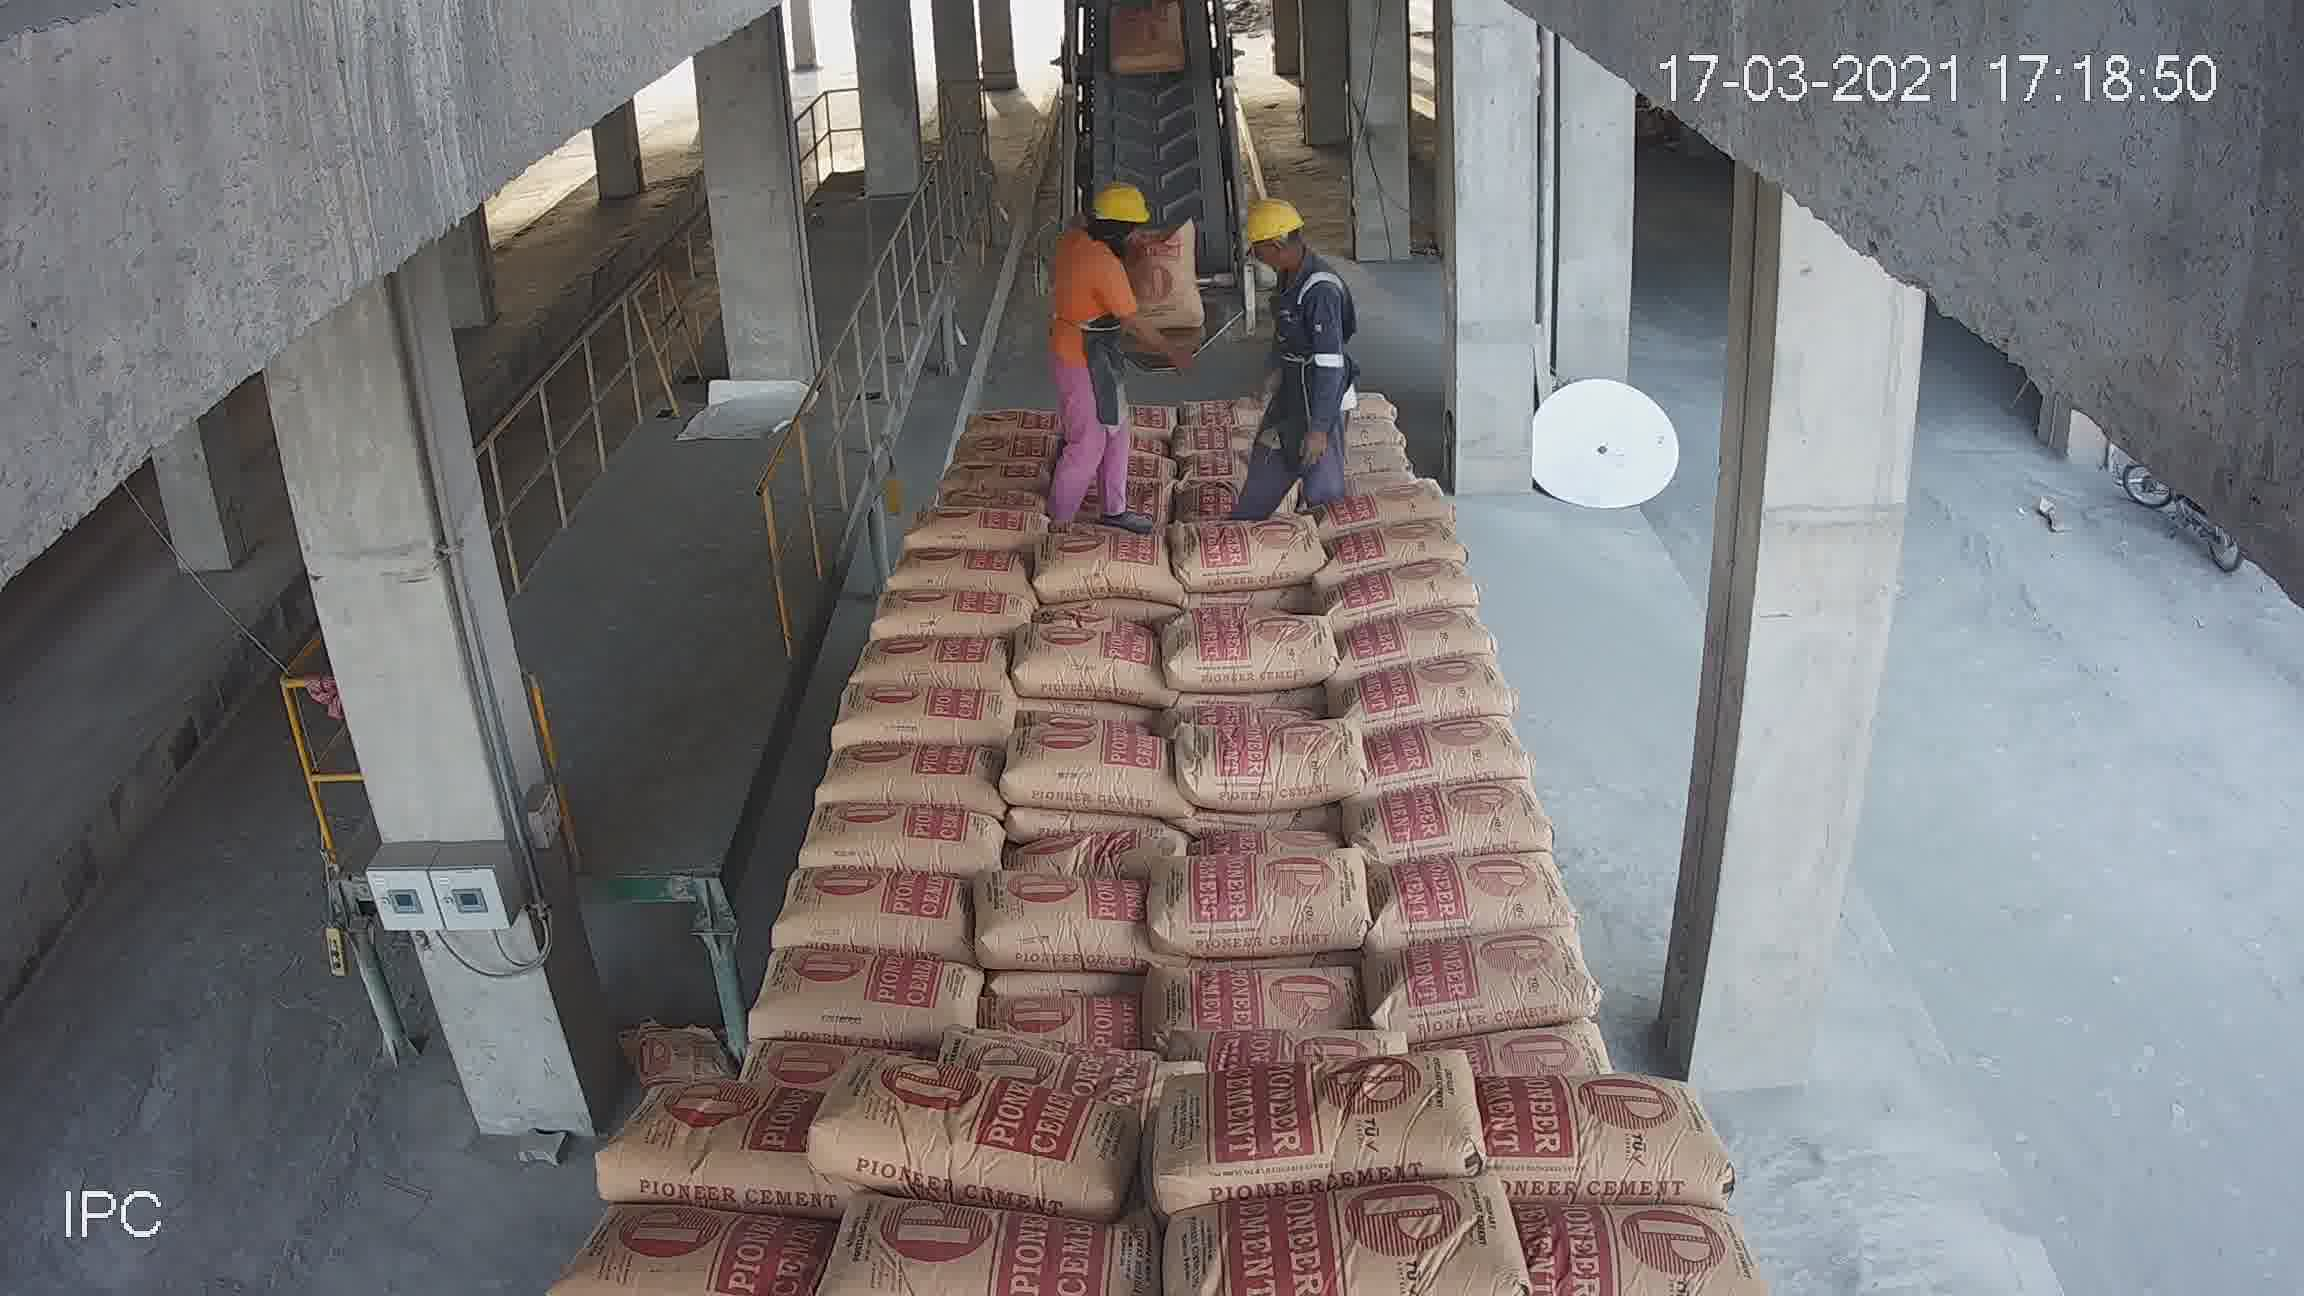bag: (1130, 218, 1199, 320), (1108, 9, 1182, 81)
bag_h: (1173, 1048, 1476, 1206), (812, 1055, 1154, 1193), (1166, 1176, 1514, 1285), (1487, 1082, 1726, 1212), (810, 1204, 1154, 1293), (1381, 916, 1598, 1055), (1152, 824, 1389, 948), (589, 1089, 809, 1207), (726, 951, 983, 1049), (1386, 836, 1582, 953), (1147, 954, 1380, 1049), (1522, 1198, 1768, 1283), (555, 1218, 828, 1291), (967, 873, 1154, 975), (760, 864, 968, 954), (1359, 692, 1537, 798), (801, 791, 1010, 880), (983, 728, 1184, 813), (1378, 761, 1552, 858), (1177, 715, 1362, 805), (923, 1040, 1198, 1097), (1160, 617, 1345, 696), (1342, 638, 1513, 722), (1161, 502, 1320, 587), (1010, 812, 1192, 885), (807, 739, 1003, 805), (1016, 604, 1161, 687), (1180, 1014, 1402, 1068), (847, 623, 1013, 690), (828, 684, 1013, 742), (976, 991, 1135, 1057), (1449, 1013, 1605, 1079), (1331, 560, 1506, 619), (1294, 470, 1454, 533), (847, 585, 1049, 635), (1313, 516, 1473, 574), (1353, 604, 1497, 666), (1035, 538, 1177, 598), (883, 538, 1029, 590), (908, 497, 1048, 551), (942, 446, 1052, 498), (926, 479, 1059, 513), (968, 392, 1054, 432), (1177, 411, 1252, 453), (1184, 394, 1260, 432), (954, 437, 1063, 460), (1182, 457, 1253, 491)
belt: (1070, 30, 1253, 370)
